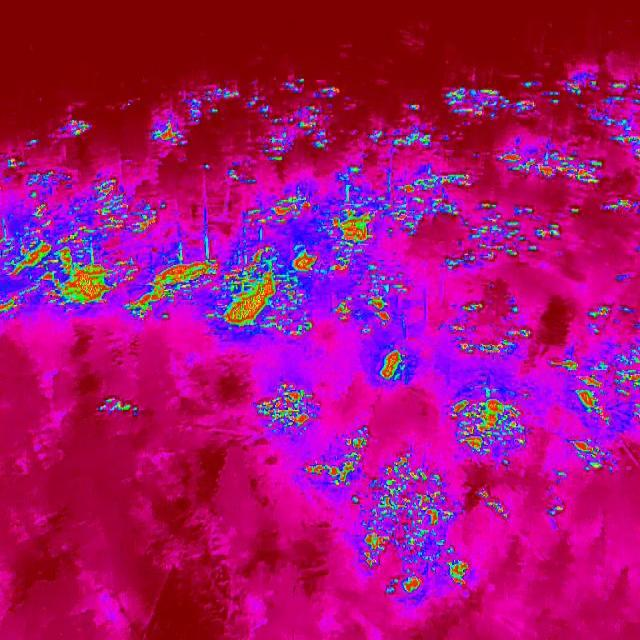fire: (340, 162, 571, 270), (0, 168, 156, 322), (353, 452, 470, 614), (213, 76, 346, 156), (214, 246, 312, 346), (554, 332, 640, 430), (442, 383, 534, 471), (122, 246, 218, 326), (550, 66, 638, 140), (332, 260, 412, 338), (445, 295, 533, 363), (492, 142, 610, 190), (241, 186, 320, 242), (302, 429, 373, 490), (442, 81, 532, 124), (324, 201, 386, 261), (256, 382, 314, 436), (360, 124, 440, 158), (568, 432, 612, 478), (372, 342, 412, 388), (49, 112, 97, 144), (148, 116, 189, 150), (288, 246, 324, 276), (480, 491, 513, 523), (600, 194, 640, 220), (225, 162, 262, 190), (96, 396, 138, 420), (544, 497, 568, 527), (1, 151, 26, 171), (588, 306, 610, 322), (24, 138, 44, 150), (564, 205, 584, 217), (406, 101, 423, 113)
